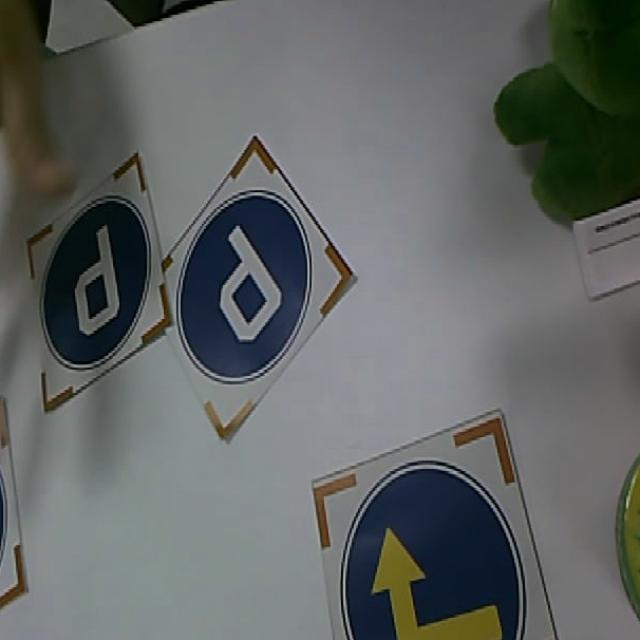parking: (168, 122, 356, 441), (34, 150, 168, 424)
turn: (308, 453, 538, 640)
